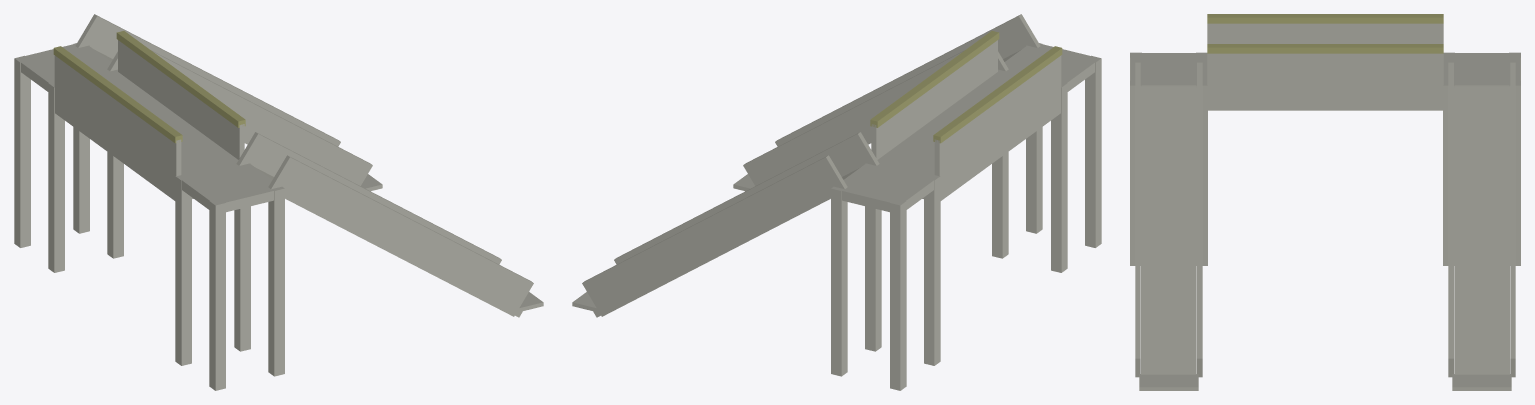
Rendered from SM_KitPaso_v2_LOD1.fbx.
3 views of the same model, side by side, from view 1: azimuth 30°, elevation 25°; view 2: azimuth 150°, elevation 25°; view 3: azimuth 270°, elevation 25° (orthographic). The views are drawn at different scales.
Parts seen in each view (by area): view 1: SM_bloques.kit_paso_v2_LOD1; view 2: SM_bloques.kit_paso_v2_LOD1; view 3: SM_bloques.kit_paso_v2_LOD1.
Part boxes in pixels (x1,y1,x2,y2): SM_bloques.kit_paso_v2_LOD1: [14, 14, 543, 390]; SM_bloques.kit_paso_v2_LOD1: [572, 14, 1101, 390]; SM_bloques.kit_paso_v2_LOD1: [1130, 14, 1520, 390].
Size of the model in its own units: 10.76 by 7.14 by 11.24.
